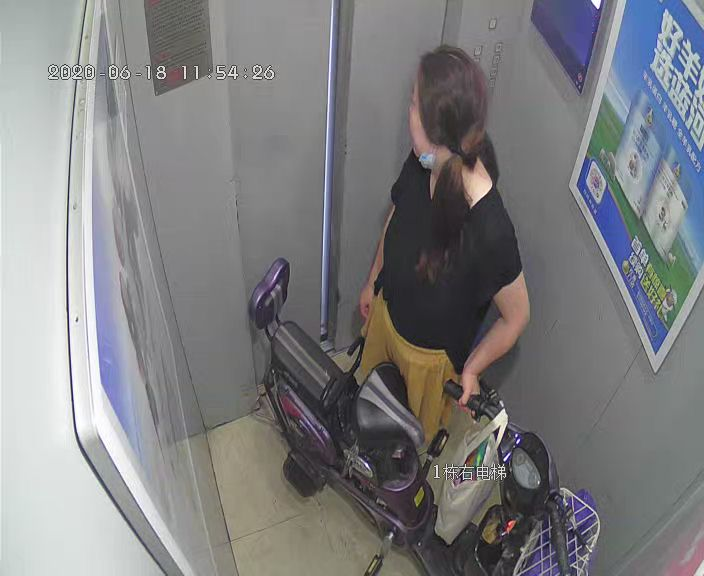Electric-bicycle: (246, 257, 600, 576)
